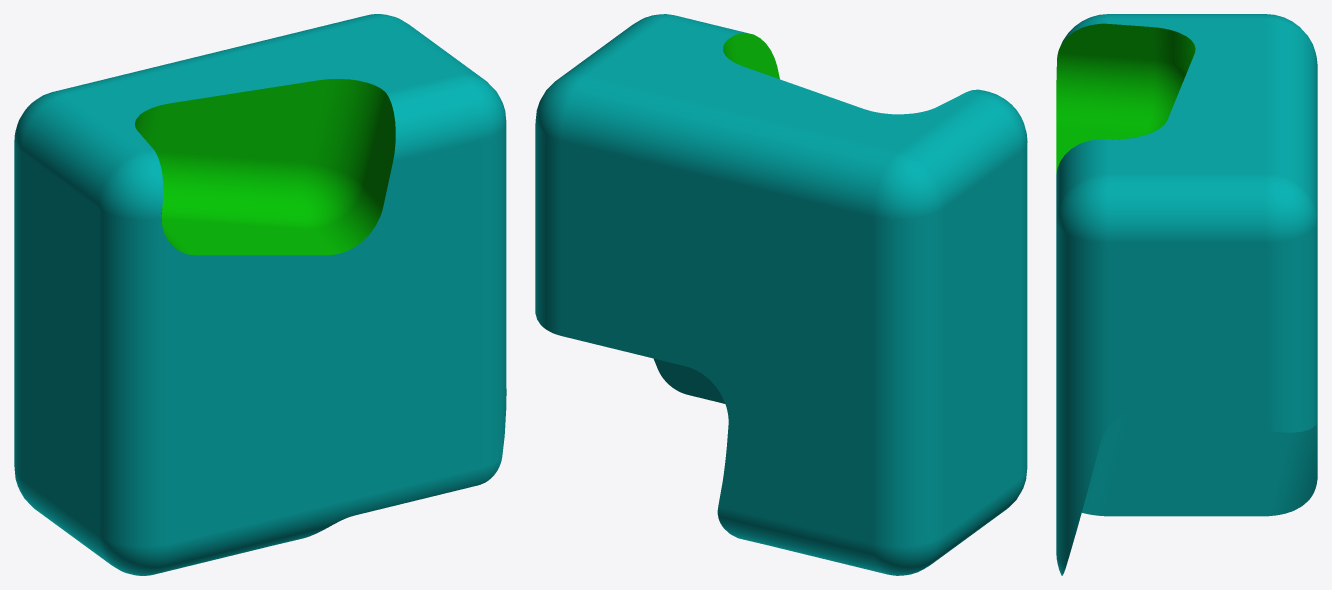
Rendered from random6.fbx.
The picture shows the model from 3 angles, left to right: view 1: azimuth 30°, elevation 25°; view 2: azimuth 150°, elevation 25°; view 3: azimuth 270°, elevation 25°; orthographic projection.
Parts seen in each view (by area): view 1: obj1; view 2: obj1; view 3: obj1.
Boxes of the visible parts, x1,y1,x2,y2 form: obj1: (14,14,506,575); obj1: (535,14,1027,575); obj1: (1056,14,1317,575).
Size of the model in its own units: 9 by 9 by 5.
